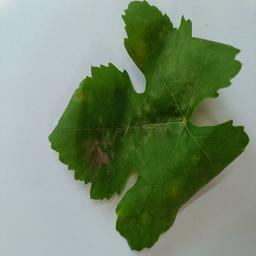Powdery-Mildew: (135, 114, 180, 143), (83, 140, 113, 176), (191, 148, 208, 165), (73, 87, 89, 104), (137, 211, 154, 227), (180, 94, 196, 110), (167, 180, 183, 196)
